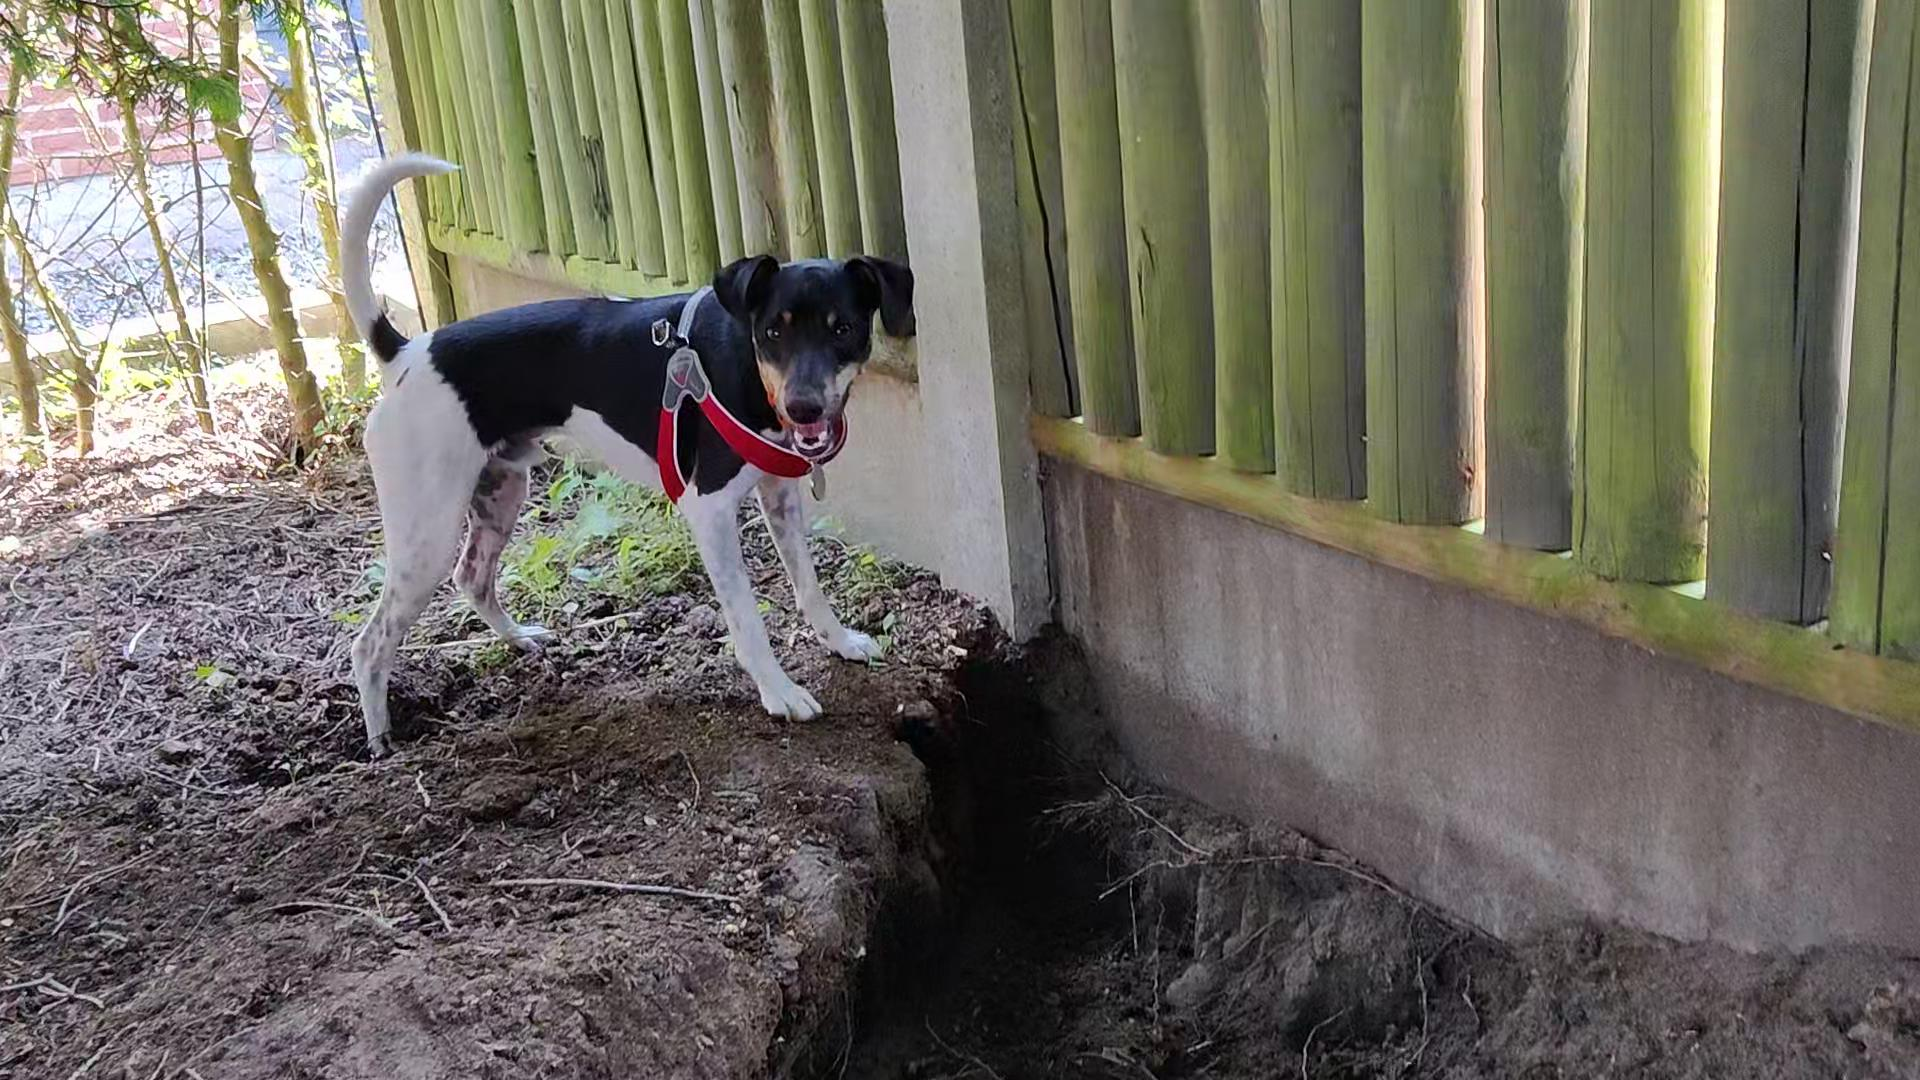Dog: (305, 117, 934, 774)
